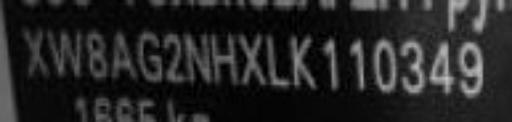letter: (44, 28, 84, 80), (289, 31, 323, 89), (236, 31, 270, 89), (180, 29, 214, 86), (207, 29, 241, 86), (398, 36, 430, 96), (456, 39, 488, 99), (262, 31, 294, 89), (370, 36, 400, 96), (428, 36, 458, 96), (18, 26, 52, 78), (134, 29, 164, 83), (108, 29, 140, 78), (158, 31, 188, 83), (318, 33, 344, 93), (82, 28, 110, 80), (348, 33, 370, 93)
